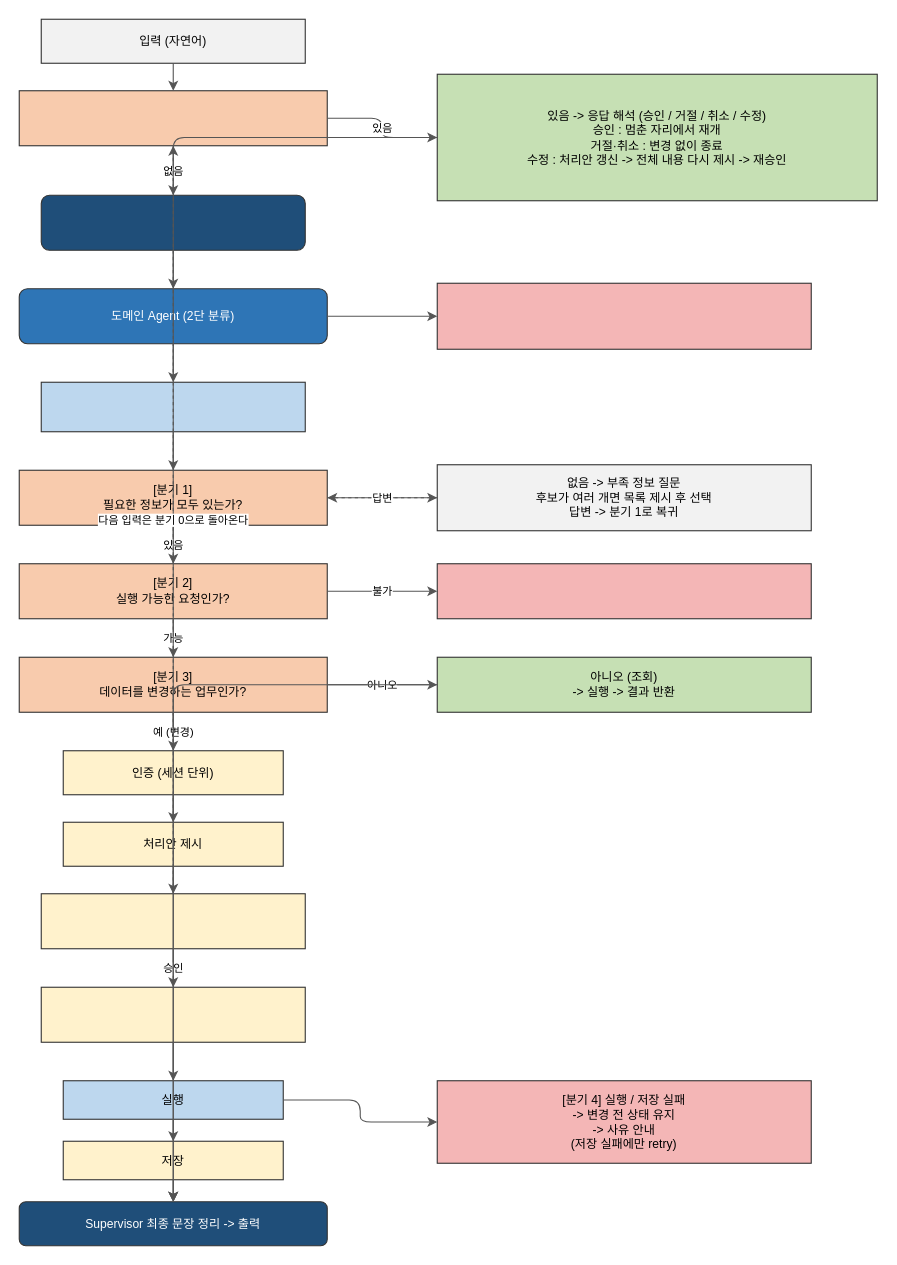
Some shapes in this 897 by 1265 pixel diagram are drawn without their labels. The box of each missing label's shape, as (x1, y1, x2, y2) in pixels:
[분기 0] 승인 대기 중인 업무가 있는가?: (18, 90, 327, 146)
Supervisor 1단 분류 : 계좌 / 카드: (40, 194, 305, 250)
기능 Agent (3단 분류): (40, 381, 305, 432)
내 도메인 아님 -> Supervisor 반송 후 재분류 (1회까지) -> 재분류도 실패하면 불가 안내: (436, 282, 811, 349)
불가 -> 사유 안내 후 종료 (데이터 변경 없음): (436, 563, 811, 619)
승인 요청 (interrupt) * 이 노드에는 부작용을 두지 않는다: (40, 893, 305, 949)
실행 직전 재검증 달라졌으면 재승인 / 재요청 안내: (40, 986, 305, 1042)
